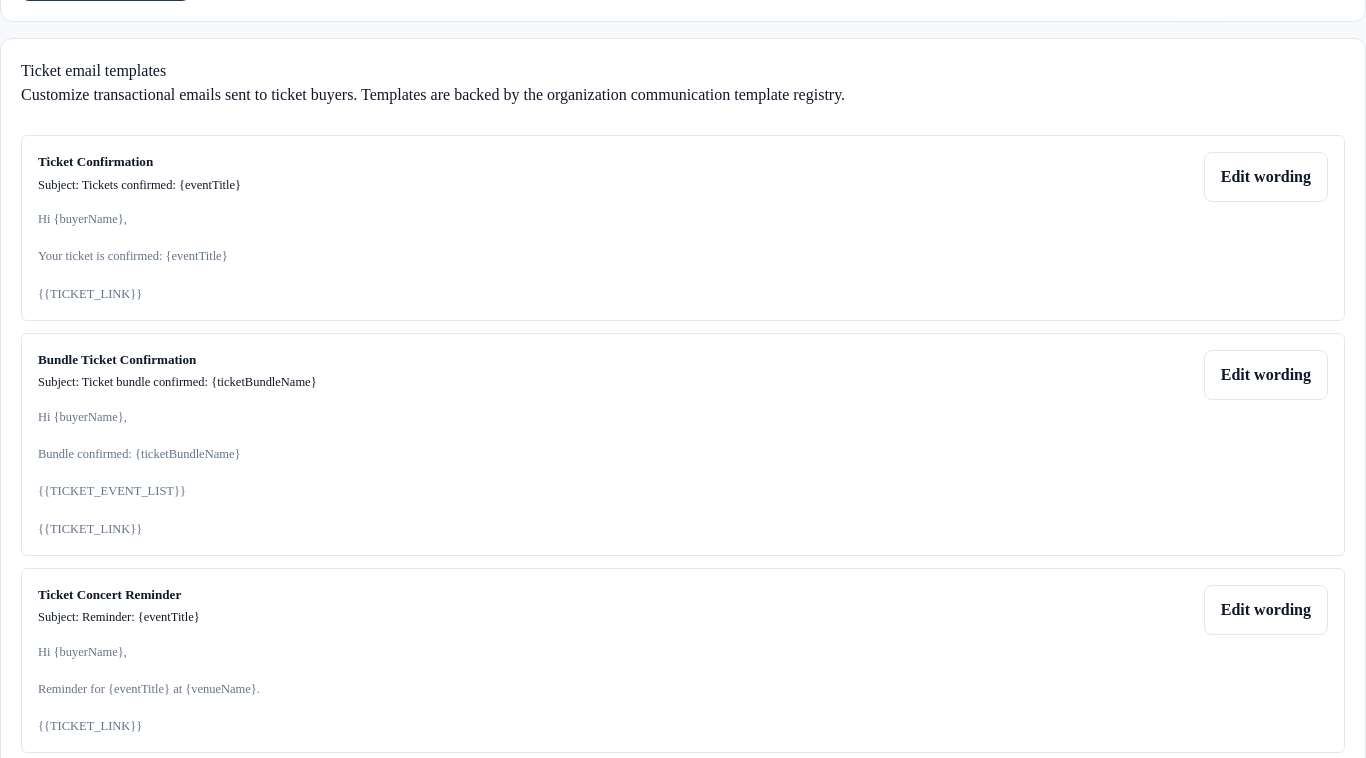
ConfirmationPanel › describes included bundle concerts with date, venue, and location details
(page scrolled)
Expected: the heading "Bundle Ticket Confirmation" is shown, [38,352,196,366]
Click the button "Edit wording" in the row of "Bundle Ticket Confirmation" at (1266, 374), box [1204,350,1328,400]
(page scrolled)
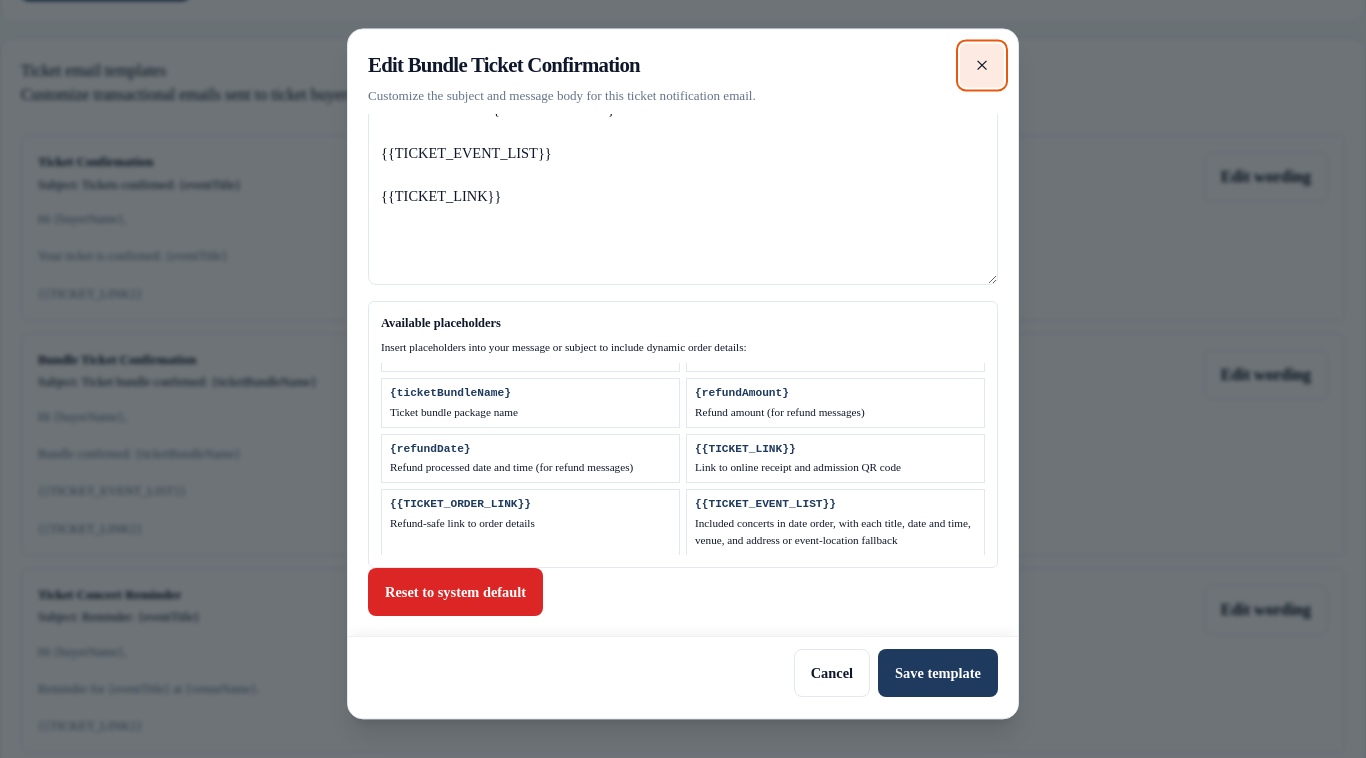
Expected: the text "Included concerts in date order, with each title, date and time, venue, and address or event-location fallback" is shown, [695,517,971,546]
